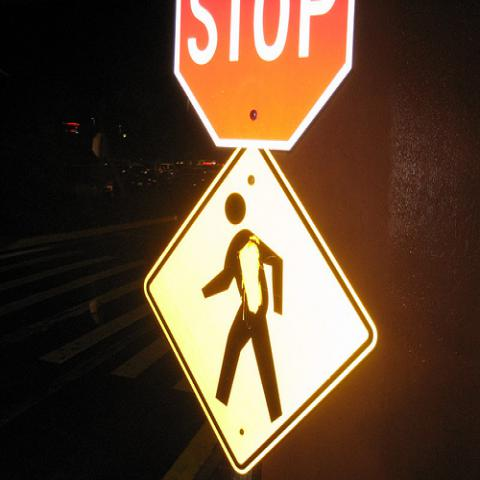car: (68, 115, 112, 176), (162, 163, 210, 202), (160, 163, 174, 170)
